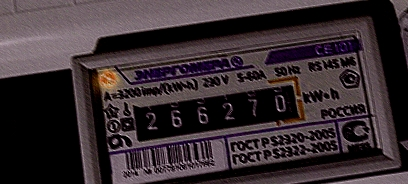0: (272, 91, 287, 113)
2: (142, 109, 160, 131), (220, 99, 236, 121)
6: (168, 106, 184, 129), (195, 103, 210, 125)
7: (245, 96, 260, 116)
screen: (122, 71, 311, 148)
